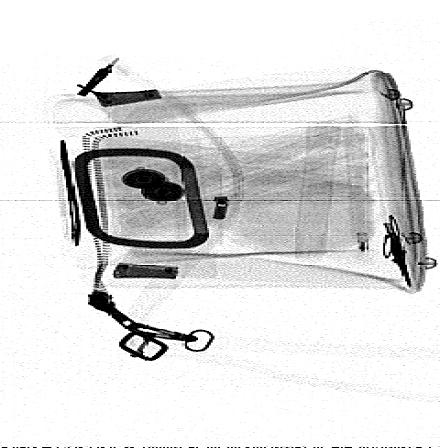Scissors: (381, 211, 411, 288)
